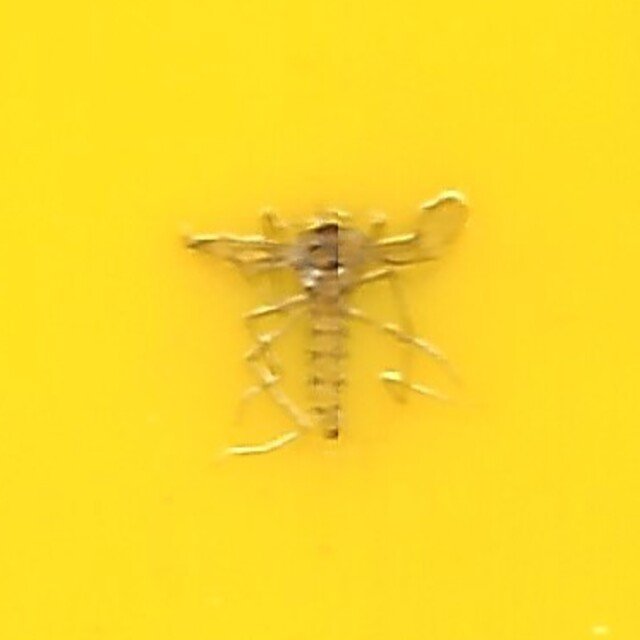Nematocera: (172, 189, 468, 451)
